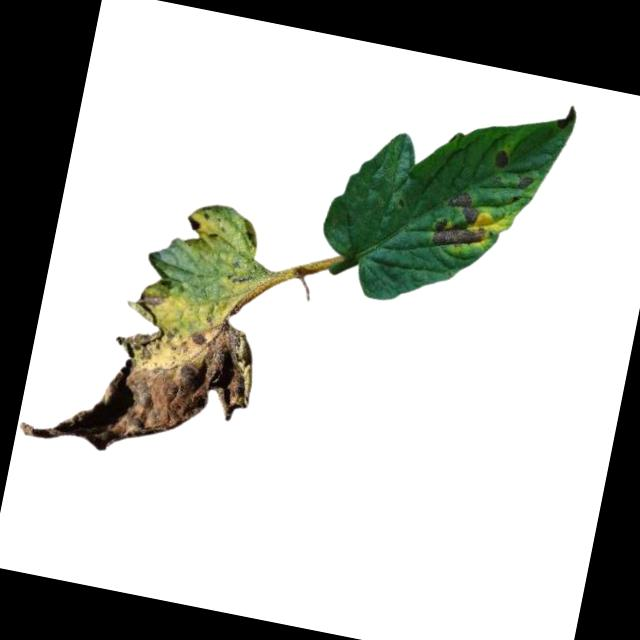Early_blight: (17, 270, 267, 479), (429, 187, 494, 257), (556, 102, 578, 133), (491, 147, 510, 174), (516, 174, 536, 191), (183, 215, 200, 235)
